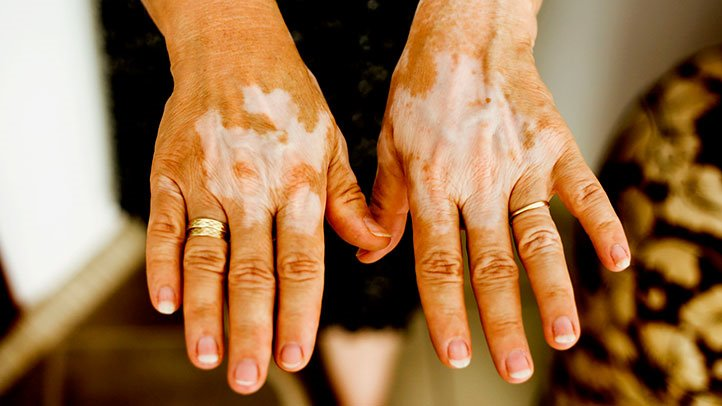vitiligo: (407, 43, 570, 306), (175, 80, 340, 330)
